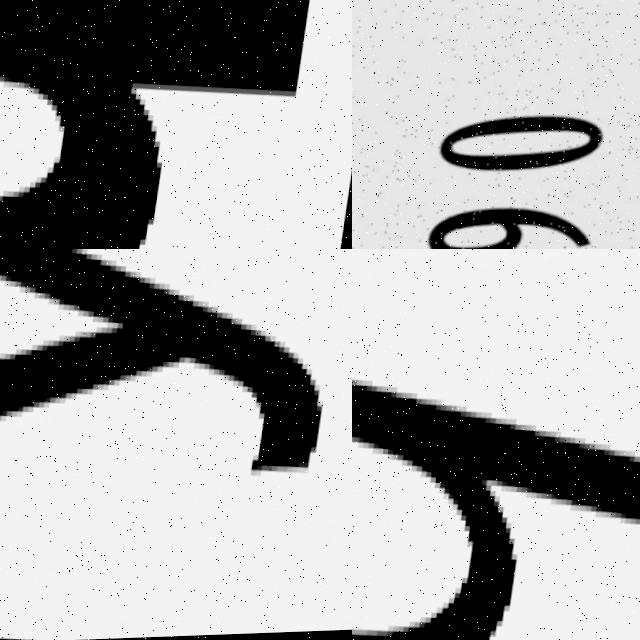0: (420, 91, 622, 199)
9: (406, 179, 617, 249)
Q: (352, 313, 640, 640), (0, 0, 320, 249)
Y: (0, 249, 352, 527)
